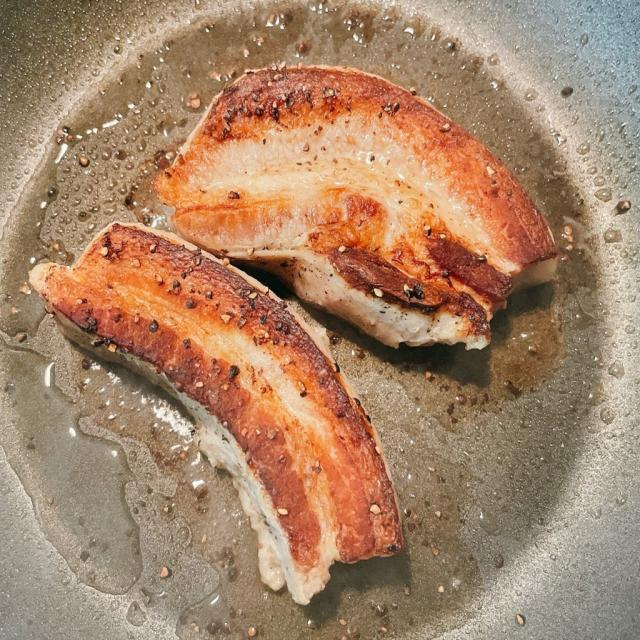overcooked pork: (21, 222, 406, 610), (148, 59, 564, 364)
